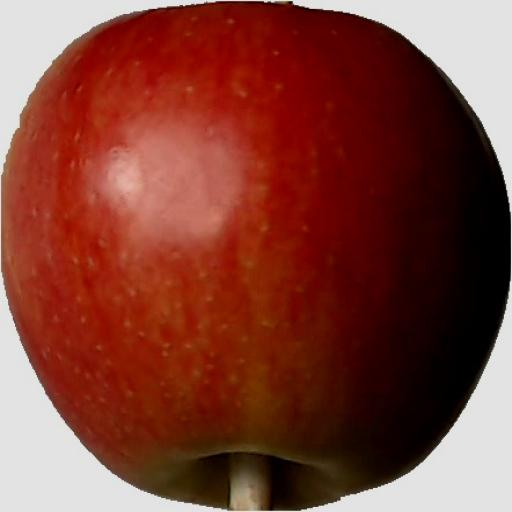apple-ripe: (0, 0, 512, 506)
